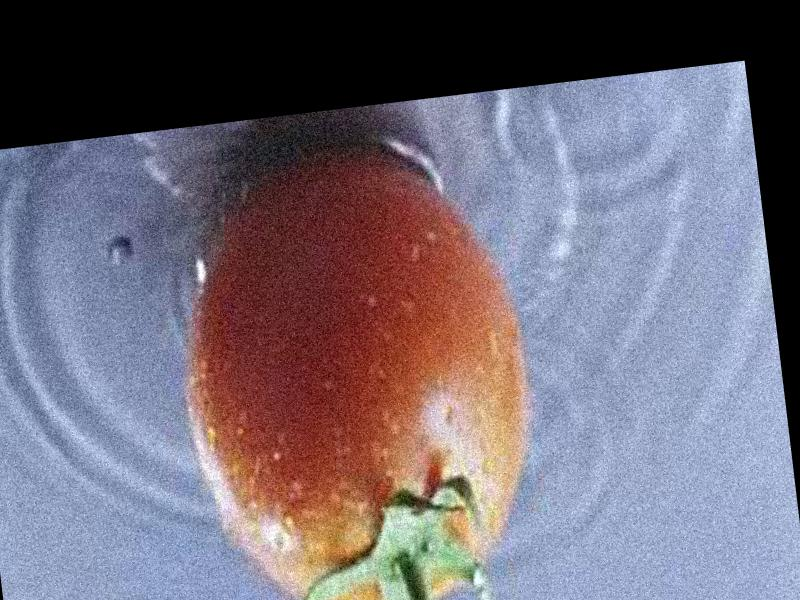Tomato: (164, 130, 550, 600)
